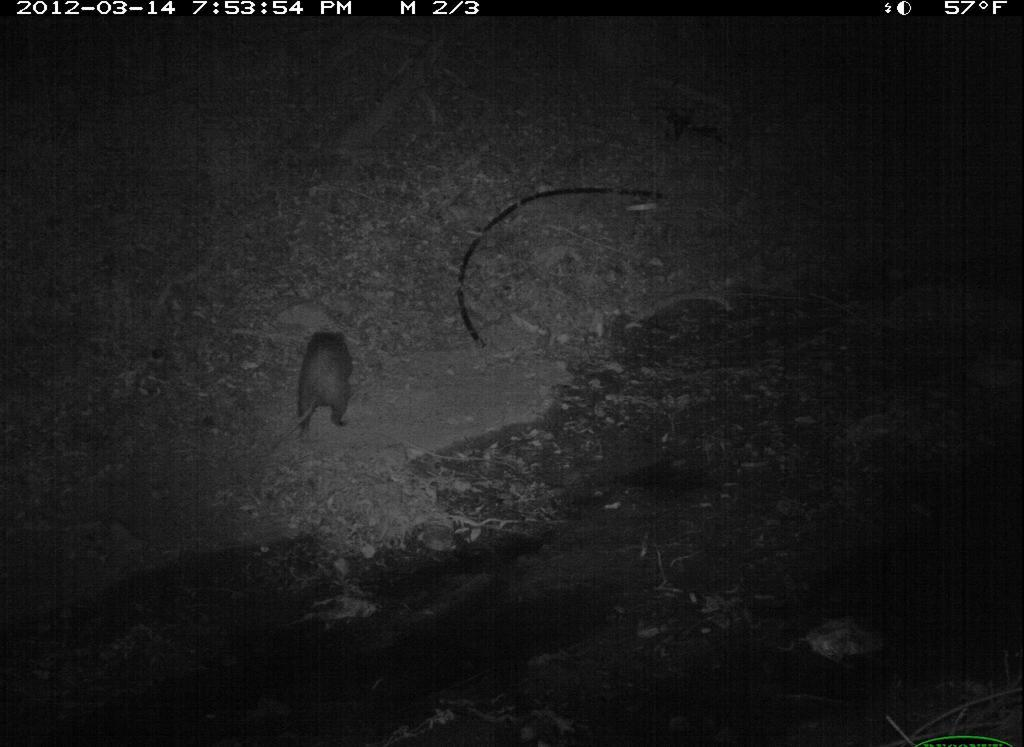opossum: (289, 324, 359, 445)
